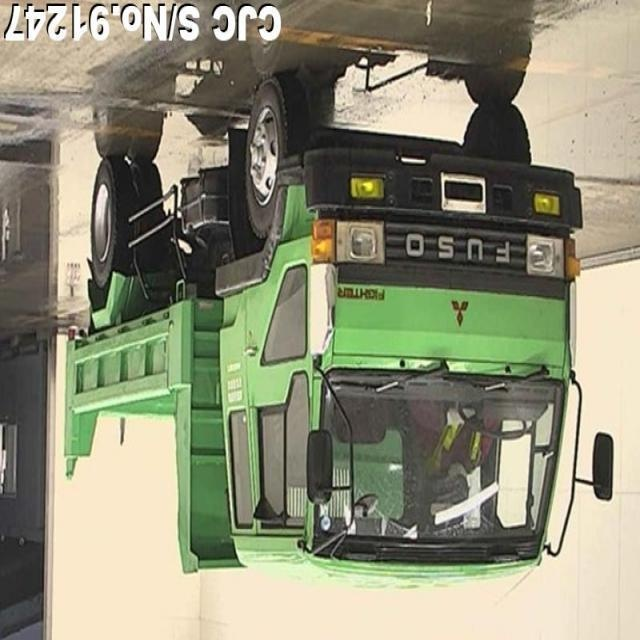Truck: (62, 75, 617, 589)
